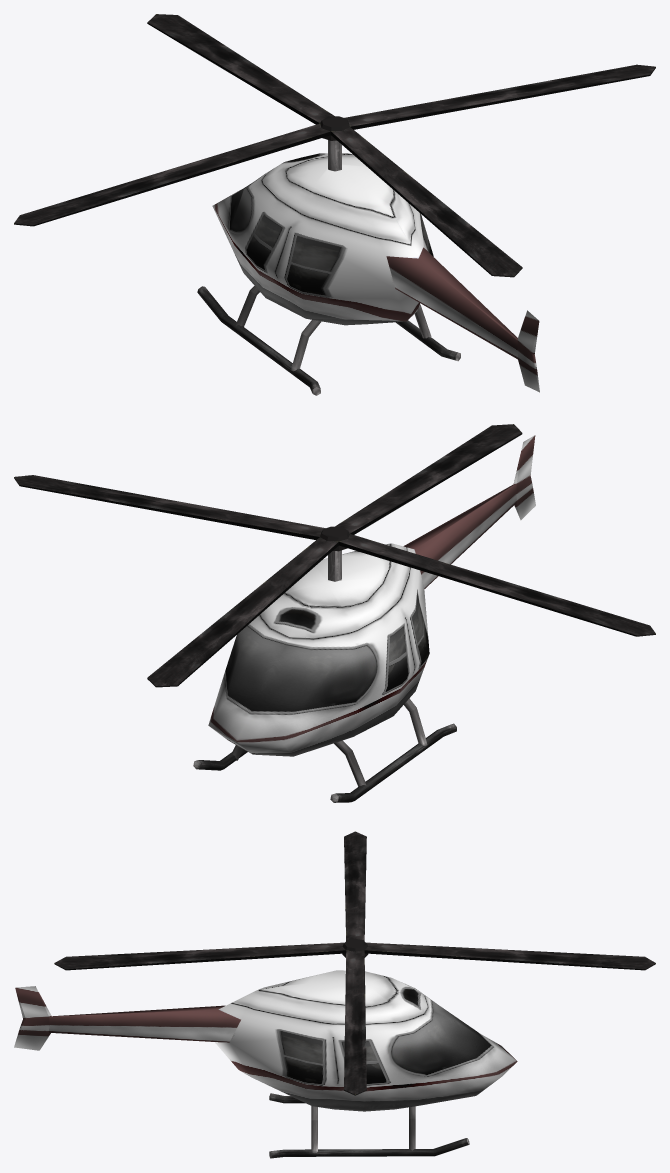
Rendered from Helicopter.obj.
3 renders of one model, top to bottom at view 1: azimuth 30°, elevation 25°; view 2: azimuth 150°, elevation 25°; view 3: azimuth 270°, elevation 25°, orthographic. The views are drawn at different scales.
Visible parts, largest first — view 1: helicopter; view 2: helicopter; view 3: helicopter.
Boxes of the visible parts, bbox=[...] form: helicopter: bbox=[14, 14, 655, 395]; helicopter: bbox=[14, 424, 655, 802]; helicopter: bbox=[14, 831, 655, 1158].
Size of the model in its own units: 10.13 by 3.33 by 10.43.
Materials: 1 (1 with a texture image).
